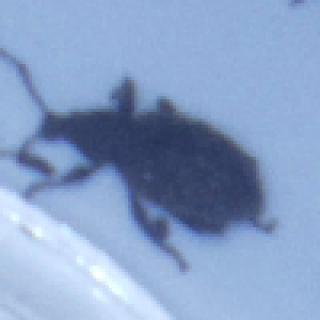bvw: (0, 50, 278, 273)
